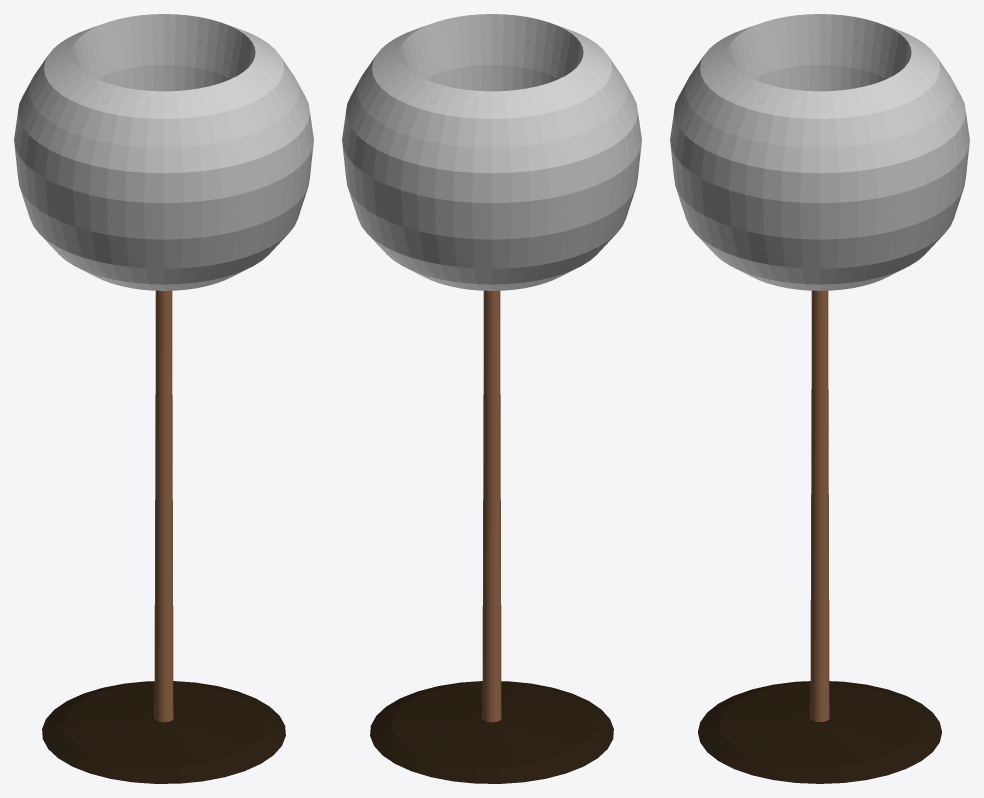
The model's file is Lamp2.fbx.
3 renders of one model, left to right at view 1: azimuth 30°, elevation 25°; view 2: azimuth 150°, elevation 25°; view 3: azimuth 270°, elevation 25°, orthographic.
Visible parts, largest first — view 1: Lamp; view 2: Lamp; view 3: Lamp.
Boxes of the visible parts, x1,y1,x2,y2 form: Lamp: [14, 14, 313, 783]; Lamp: [342, 14, 641, 783]; Lamp: [670, 14, 969, 783].
Size of the model in its own units: 252 by 631 by 252.
